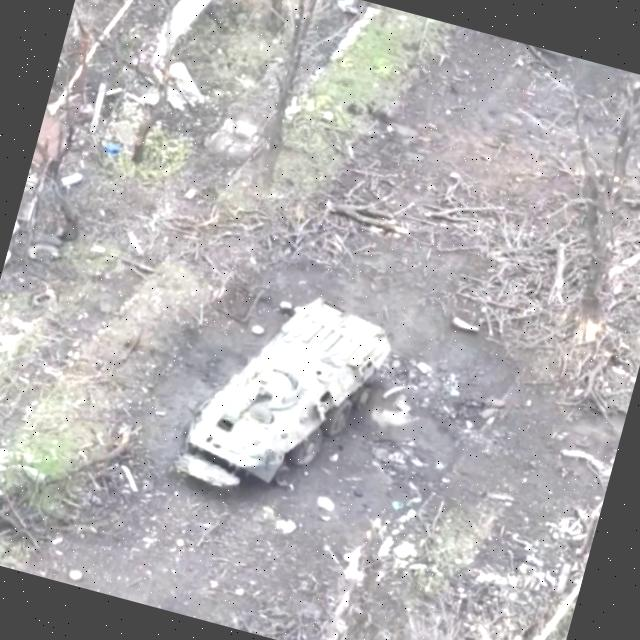APC: (167, 273, 401, 544)
